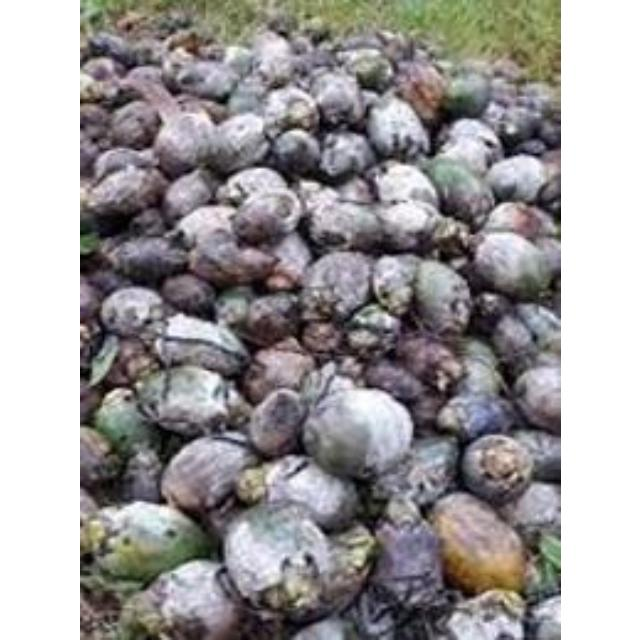damaged: (223, 501, 335, 607), (89, 502, 210, 584), (364, 512, 444, 616), (160, 432, 254, 516), (142, 562, 244, 638), (309, 394, 406, 468), (264, 454, 358, 530), (140, 366, 240, 436), (467, 232, 553, 300), (156, 312, 247, 376), (458, 431, 534, 505), (386, 436, 456, 509), (299, 250, 373, 318), (409, 258, 473, 336), (188, 230, 274, 288), (421, 156, 493, 224), (91, 390, 157, 460), (305, 196, 383, 254), (246, 387, 308, 458), (364, 94, 430, 160), (242, 346, 314, 404), (394, 332, 461, 392), (152, 110, 214, 174), (232, 188, 300, 246), (110, 234, 186, 284), (210, 112, 272, 172), (372, 198, 438, 254), (440, 393, 514, 442), (392, 59, 446, 123), (98, 286, 164, 338), (436, 119, 500, 171), (512, 362, 558, 433), (448, 338, 502, 398), (372, 160, 438, 208), (316, 128, 374, 182), (241, 292, 301, 344), (484, 155, 548, 203), (100, 334, 156, 388), (506, 481, 560, 537), (115, 588, 172, 640), (343, 304, 402, 354), (368, 253, 417, 313), (169, 59, 237, 102), (308, 70, 362, 124), (161, 168, 215, 222), (260, 84, 318, 134), (106, 100, 162, 150), (487, 311, 537, 367), (361, 358, 423, 402), (508, 428, 558, 482), (116, 447, 164, 503), (173, 204, 233, 248), (222, 166, 290, 204), (510, 302, 560, 353), (79, 426, 119, 489), (484, 200, 550, 238), (442, 68, 490, 120), (79, 562, 145, 598), (158, 272, 214, 314), (91, 146, 152, 184), (526, 532, 560, 600), (269, 127, 319, 173), (81, 586, 125, 638), (252, 30, 294, 80), (380, 489, 426, 529), (122, 64, 172, 100), (298, 318, 344, 357), (80, 482, 108, 546), (296, 282, 340, 322), (428, 216, 470, 256), (347, 51, 391, 89), (214, 286, 253, 328), (408, 390, 448, 430), (471, 289, 512, 327), (526, 592, 558, 640), (190, 250, 230, 286), (174, 96, 222, 126), (226, 78, 266, 114), (85, 266, 127, 300), (160, 27, 206, 57), (79, 276, 105, 326), (80, 182, 108, 228), (128, 206, 168, 238), (80, 383, 106, 431), (336, 34, 388, 58), (151, 10, 195, 38), (480, 100, 512, 136), (376, 33, 414, 63), (126, 37, 162, 67), (300, 46, 338, 74), (79, 135, 105, 175), (80, 56, 116, 84), (534, 114, 560, 150), (295, 178, 325, 208), (520, 82, 552, 110), (79, 68, 105, 102), (221, 44, 255, 70), (530, 349, 560, 378), (264, 14, 300, 38), (333, 355, 365, 381), (520, 561, 544, 595), (490, 60, 522, 84), (287, 33, 317, 57), (79, 227, 103, 257), (514, 138, 546, 158), (116, 13, 144, 34), (300, 16, 328, 36)
